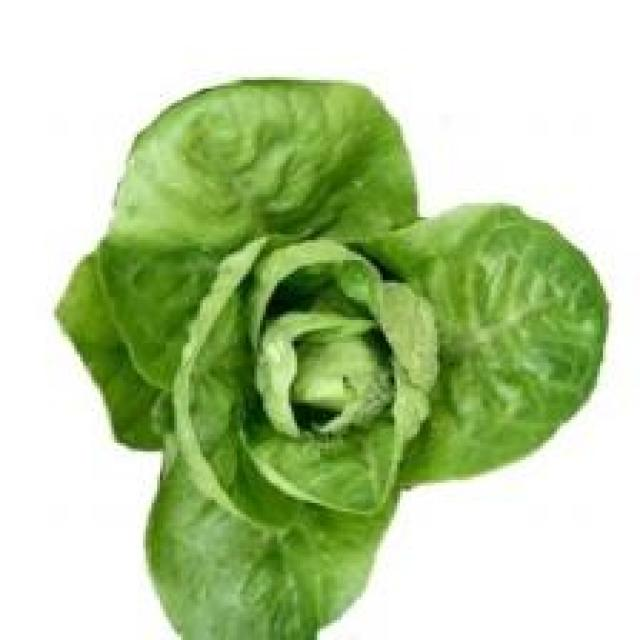Lettuce: (60, 74, 606, 640)
